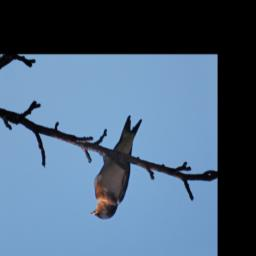Swallow: (80, 113, 153, 222)
